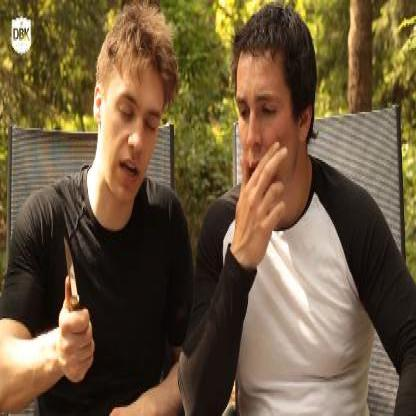knife: (54, 229, 96, 351)
